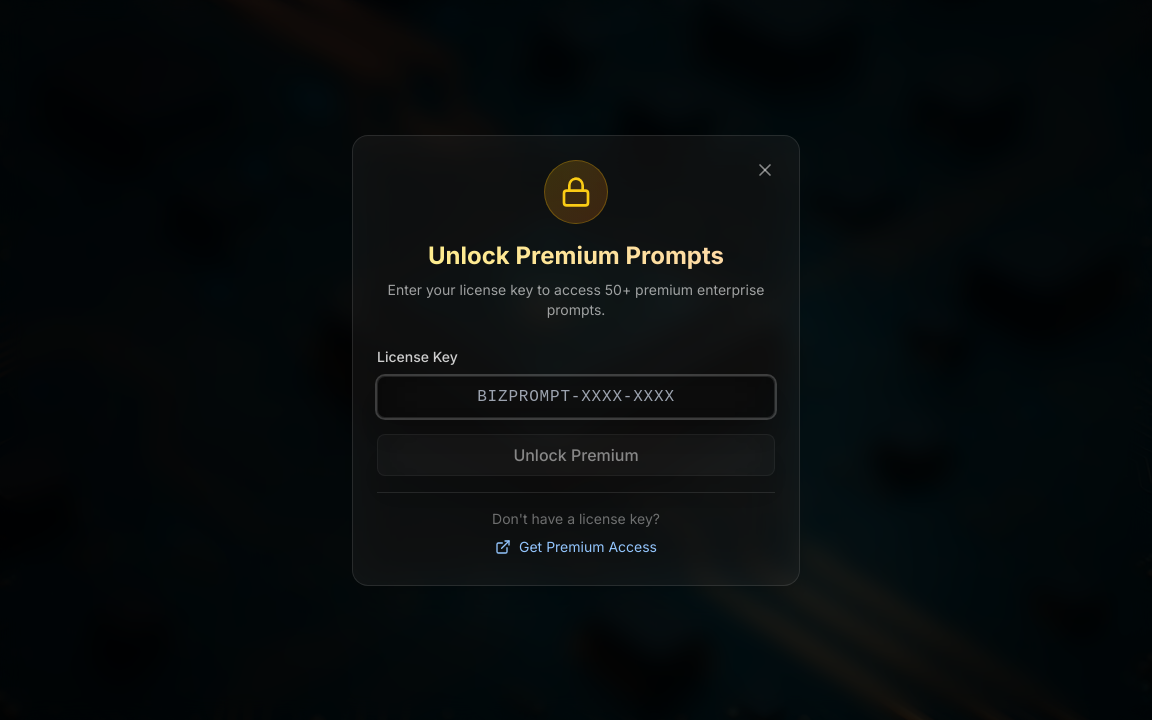
Test: UnlockModal › form submission › should show success state when unlock succeeds
Type "VALID-KEY" into the field with placeholder "BIZPROMPT-XXXX-XXXX".
click(576, 396); type("VALID-KEY")  # box [377,376,775,418]
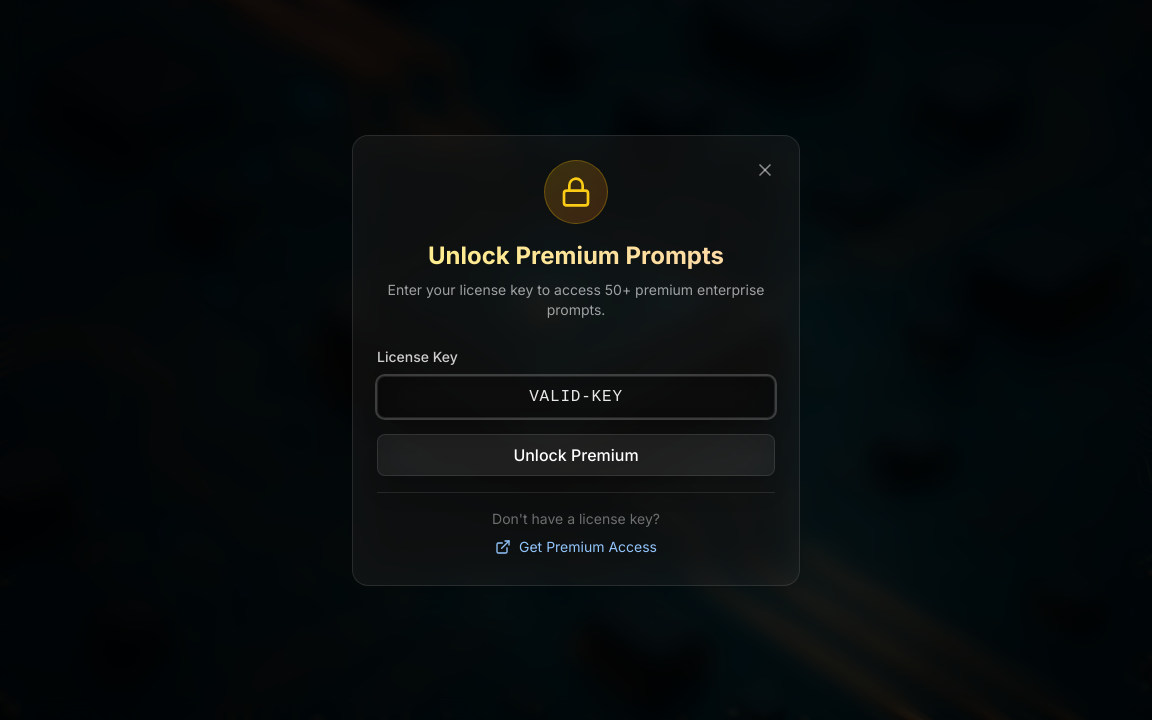
Submit the form "Unlock Premium", box [377,344,775,560]
Wait 1000 ms
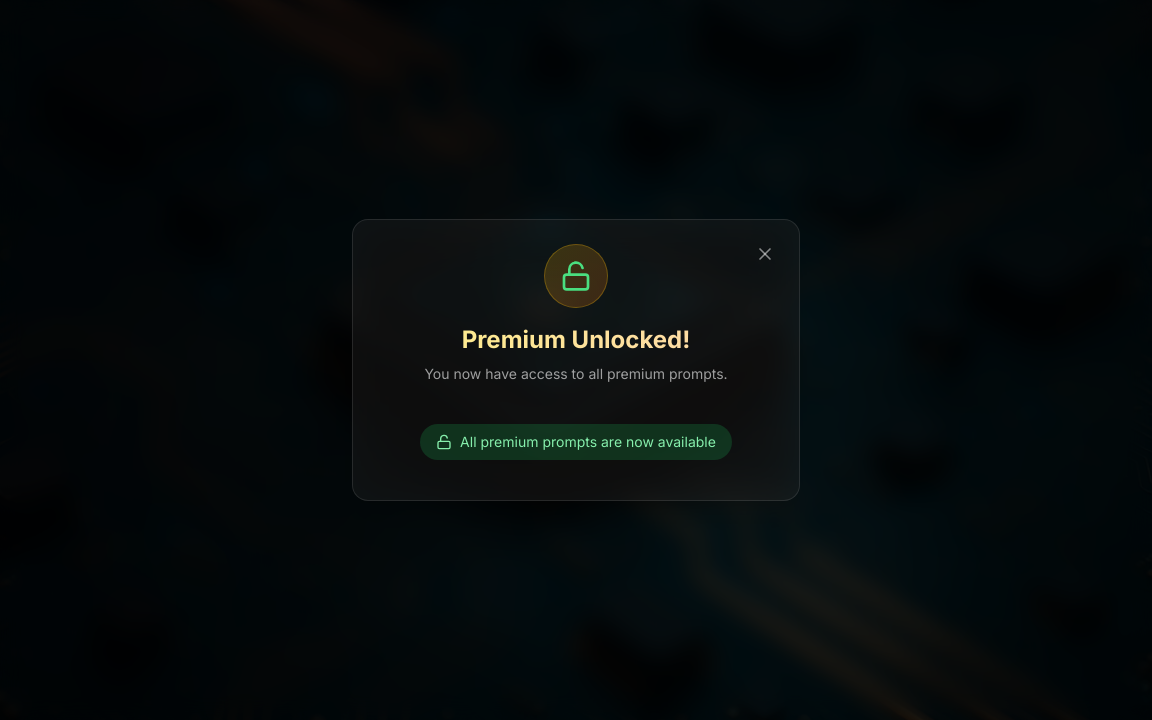
Expected: the heading "Premium Unlocked!" is shown, [377,324,775,356]
Expected: the text "You now have access to all premium prompts." is shown, [424,365,728,382]
